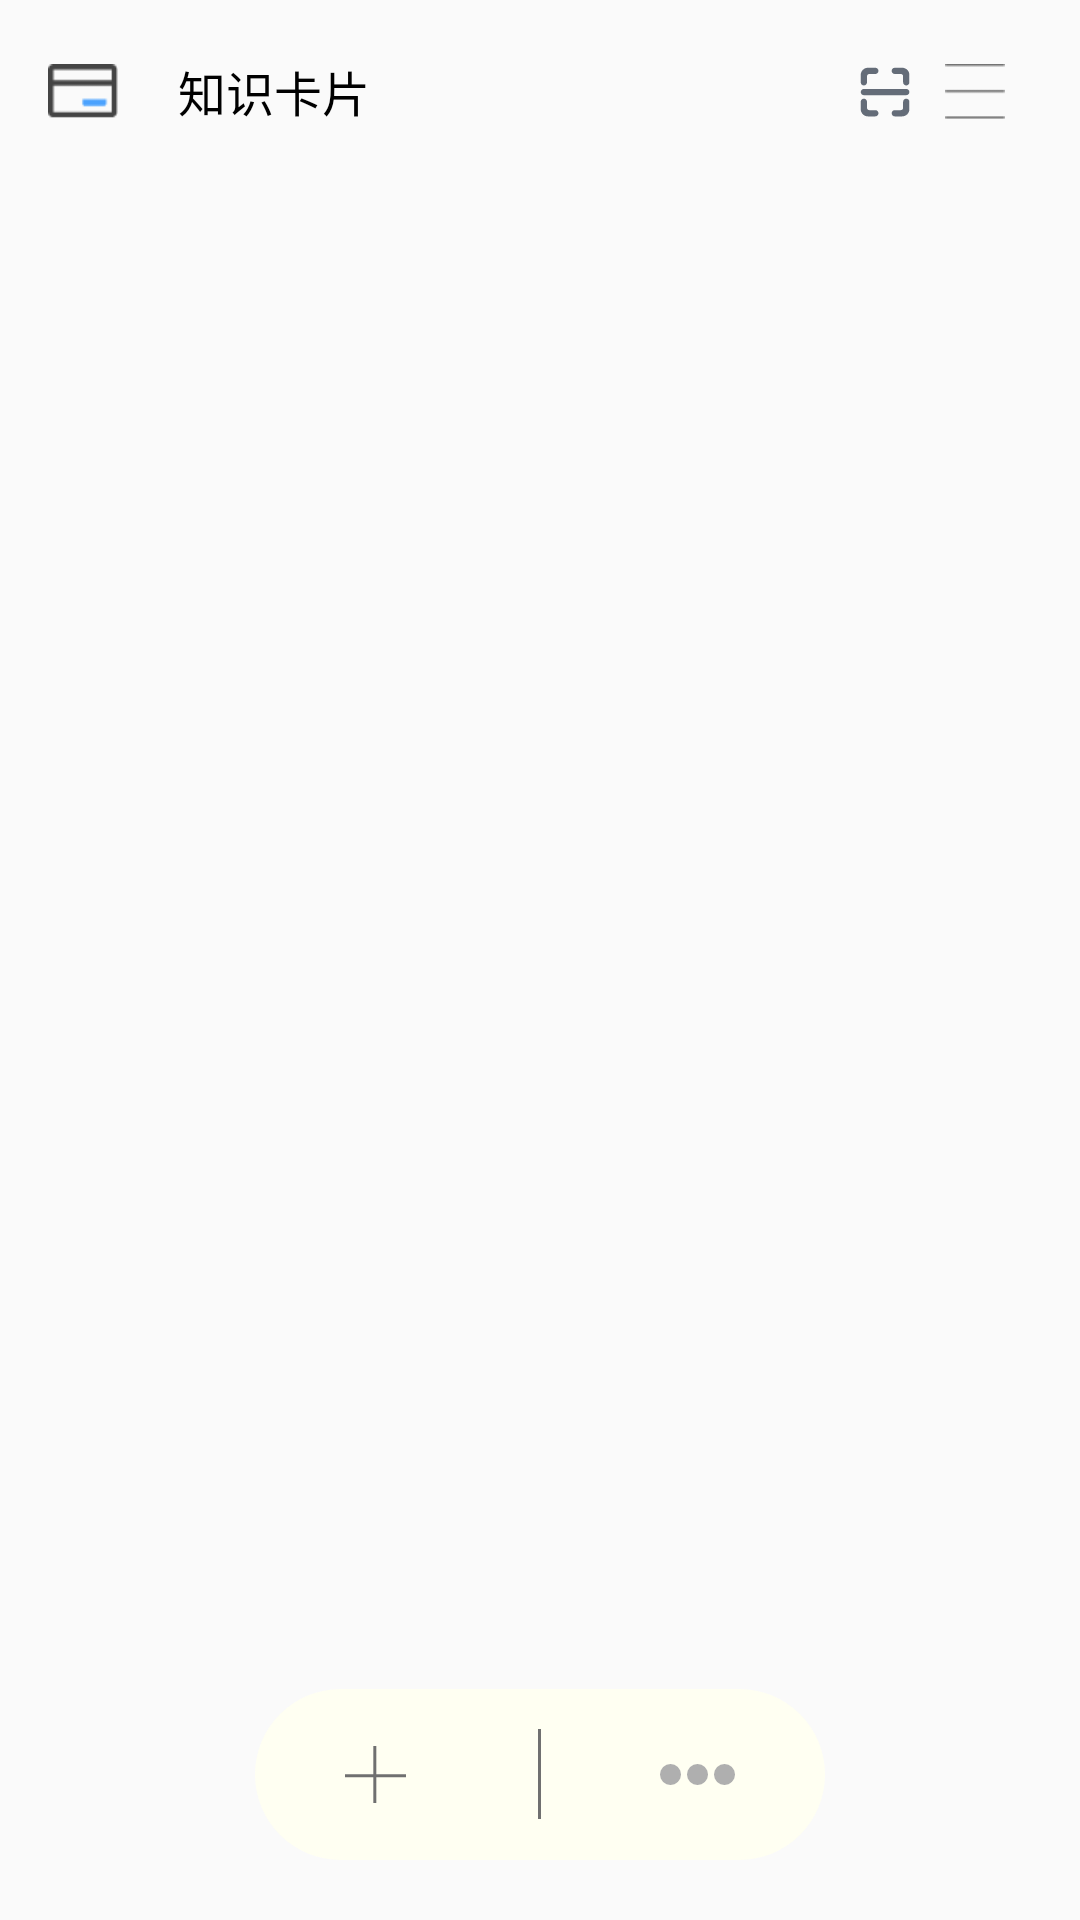

Icons on this 1080 × 1920 Android screen, each with the point to tap as (x=x, y=y):
card: (x=83, y=91)
plus: (x=375, y=1774)
scan: (x=885, y=92)
